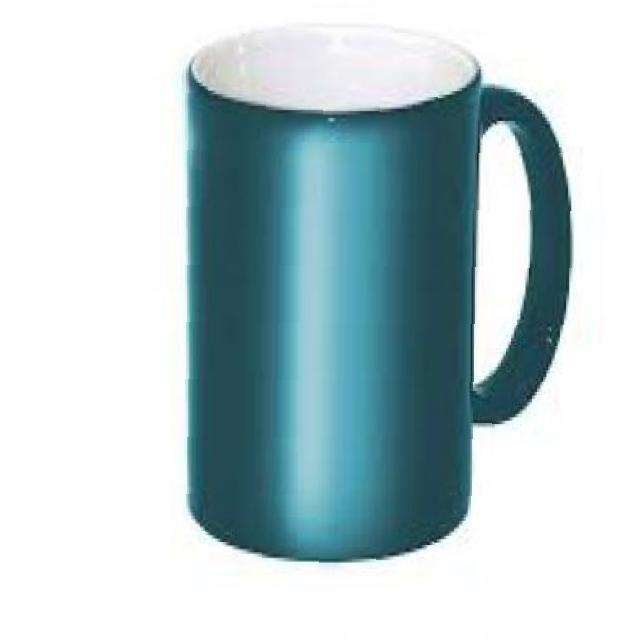cup: (172, 17, 585, 573)
